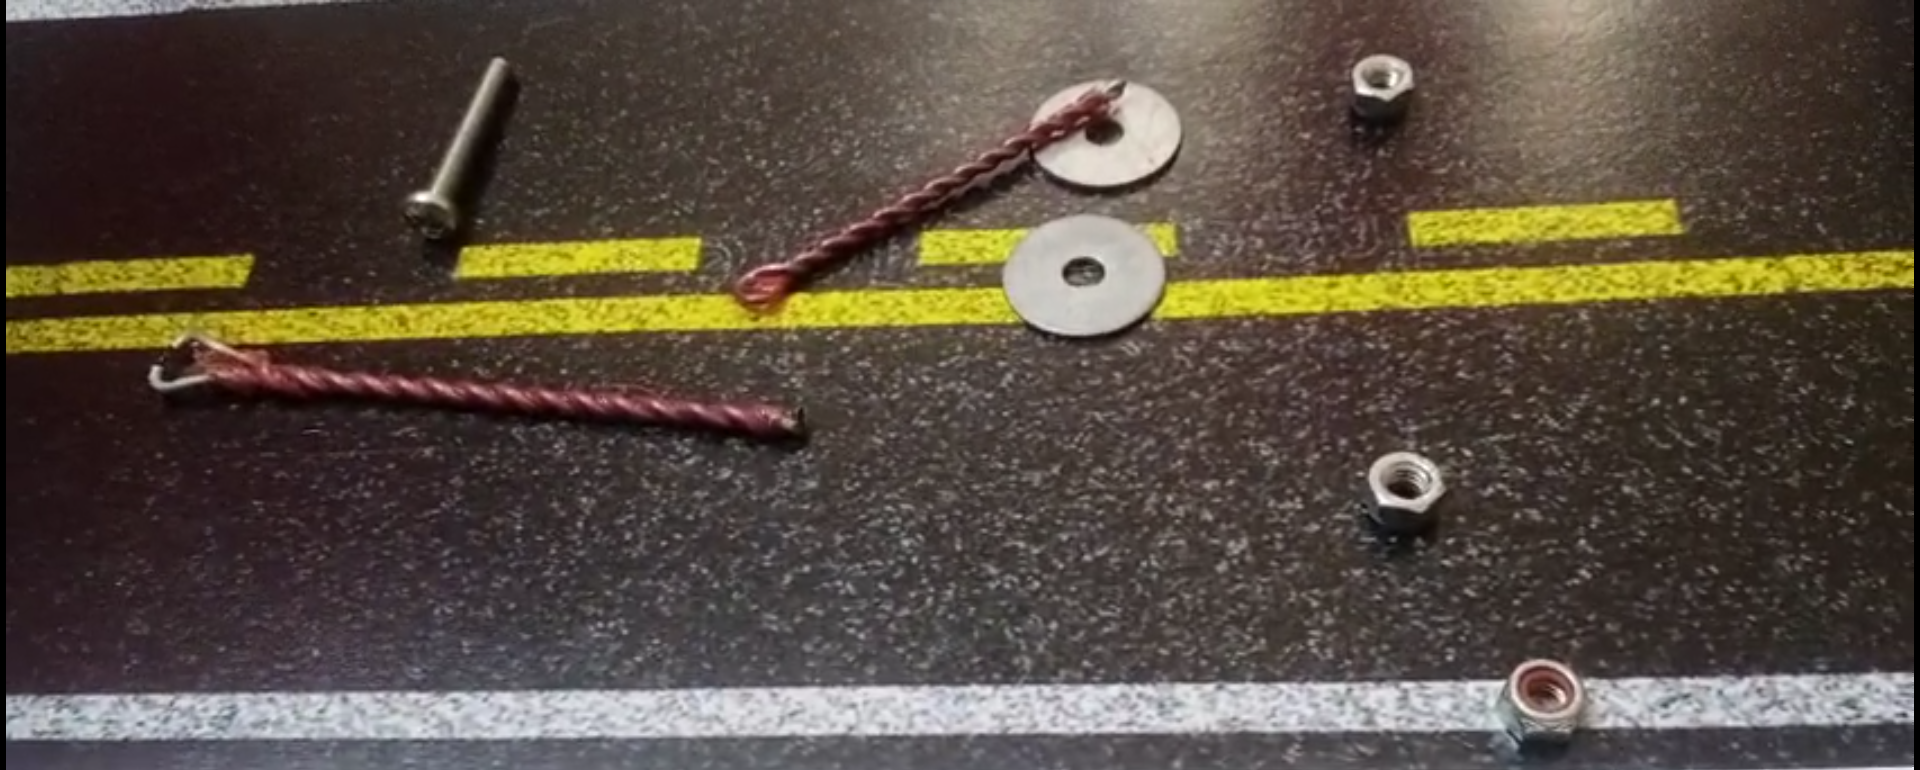metal: (144, 322, 818, 454), (999, 211, 1177, 349), (396, 32, 516, 235), (1484, 659, 1589, 752), (1367, 431, 1449, 539), (1344, 51, 1420, 111)
